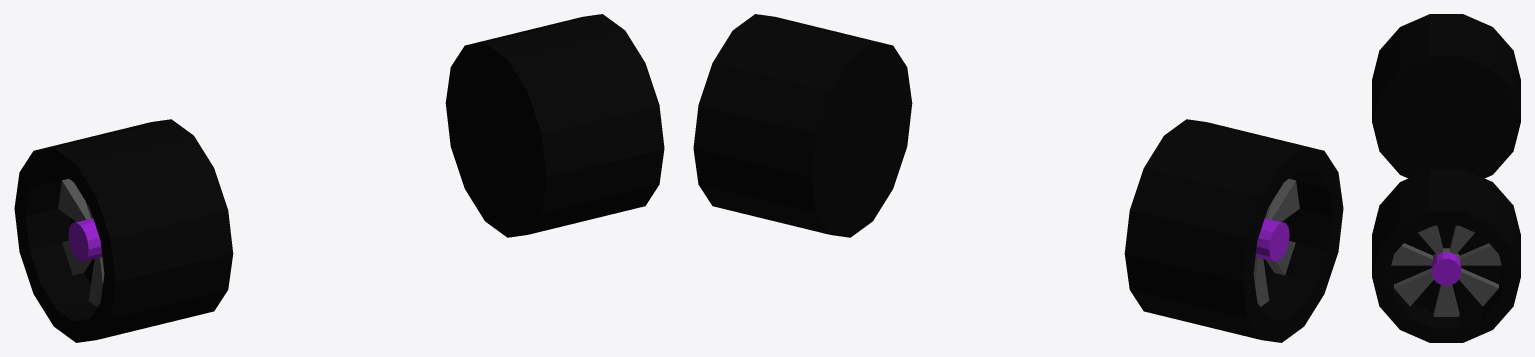
File: wheelsFront.obj
The picture shows the model from 3 angles, left to right: view 1: azimuth 30°, elevation 25°; view 2: azimuth 150°, elevation 25°; view 3: azimuth 270°, elevation 25°; orthographic projection. The views are drawn at different scales.
Parts seen in each view (by area): view 1: Cylinder.009, Cylinder.010; view 2: Cylinder.009, Cylinder.010; view 3: Cylinder.010, Cylinder.009.
Boxes of the visible parts, left/top/right/bottom form: Cylinder.009: left=14, top=119, right=233, bottom=342; Cylinder.010: left=445, top=14, right=664, bottom=237; Cylinder.009: left=1124, top=119, right=1343, bottom=342; Cylinder.010: left=693, top=14, right=912, bottom=237; Cylinder.010: left=1372, top=169, right=1520, bottom=342; Cylinder.009: left=1372, top=14, right=1520, bottom=178.
Bounding box in the file's own units: 3.96 × 1.23 × 1.26.
